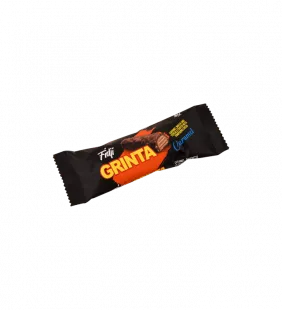FIDJI: (48, 99, 232, 208)
